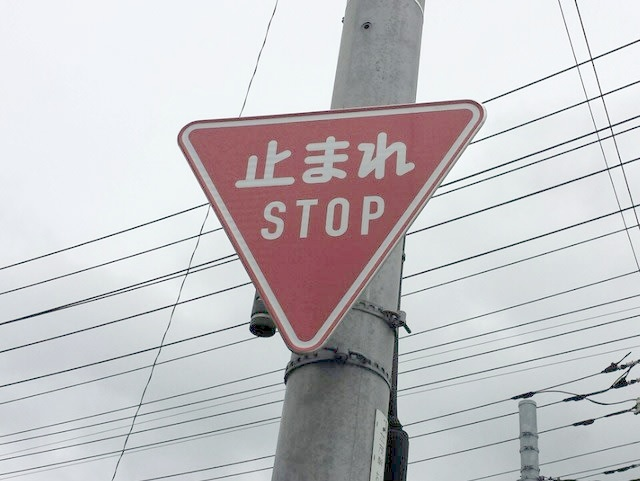Regulatory_sign_triangle: (170, 106, 499, 367)
